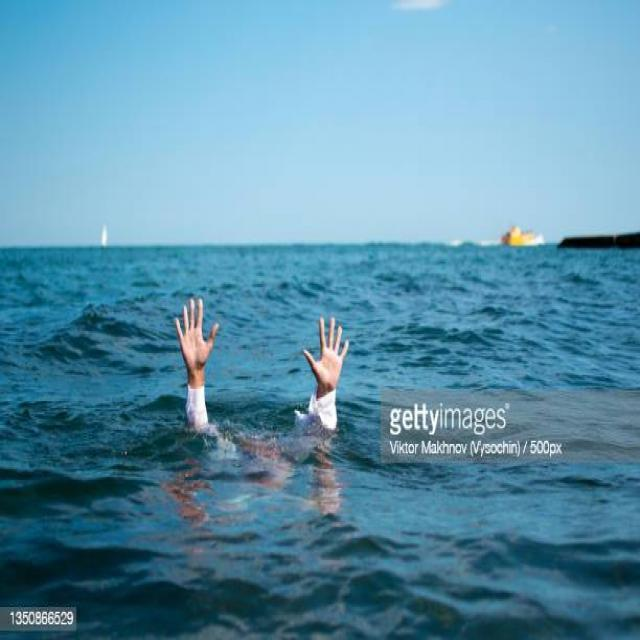Out of Water: (153, 278, 364, 494)
